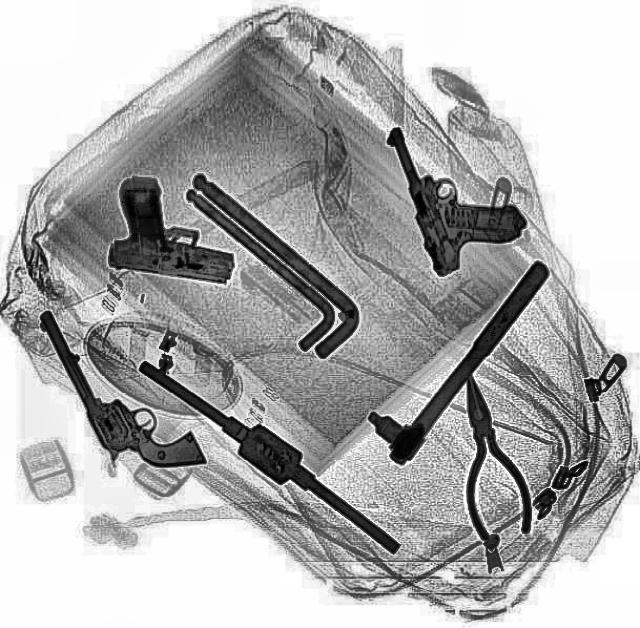Gun: (31, 280, 205, 494), (379, 100, 537, 280), (104, 170, 248, 286)
Pliers: (438, 366, 536, 542)
